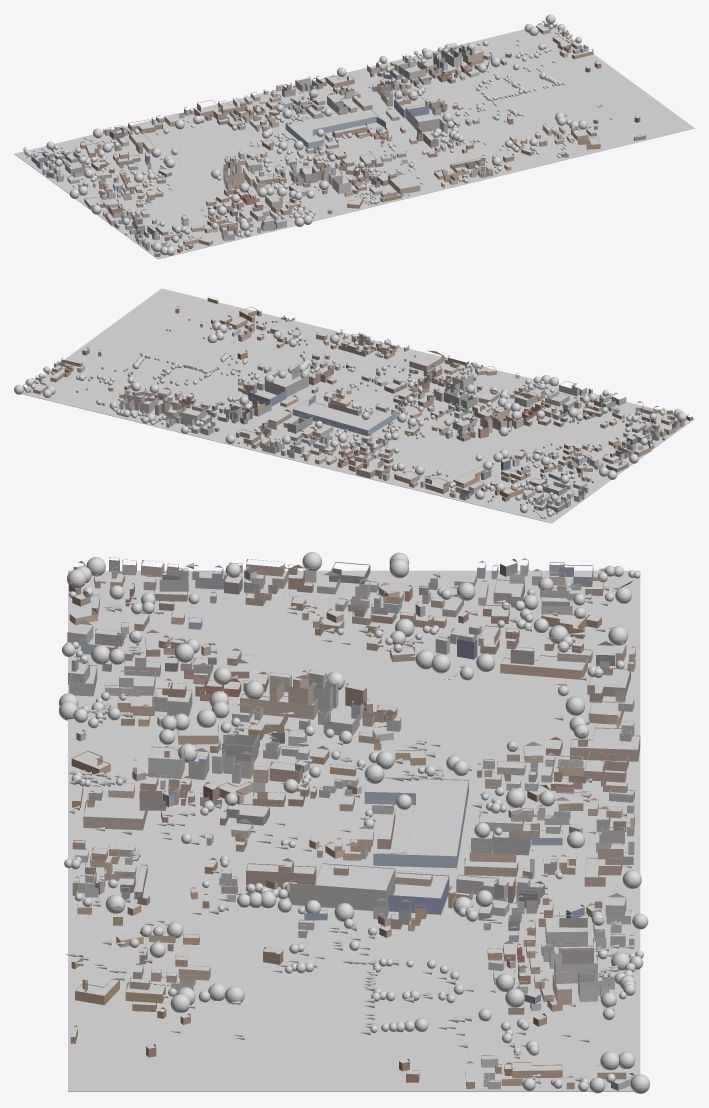
File: scene_0b5842f8-edaf-4bde-aa1f-222ab912820f.glb
3 views of the same model, one above another, from view 1: azimuth 30°, elevation 25°; view 2: azimuth 150°, elevation 25°; view 3: azimuth 270°, elevation 25° (orthographic). The views are drawn at different scales.
Parts seen in each view (by area): view 1: Ground_Base, BLD-001, BLD-002; view 2: Ground_Base, BLD-001, BLD-002; view 3: Ground_Base, BLD-002, BLD-001, BLD-027, BLD-003, BLD-006, BLD-007, BLD-008, BLD-004.
Boxes of the visible parts, x1,y1,x2,y2 form: Ground_Base: (14, 24, 694, 259); BLD-001: (285, 106, 385, 148); BLD-002: (405, 103, 447, 133); Ground_Base: (22, 288, 694, 523); BLD-001: (292, 394, 396, 436); BLD-002: (265, 364, 308, 396); Ground_Base: (68, 570, 640, 1091); BLD-002: (289, 863, 395, 910); BLD-001: (364, 777, 468, 868); BLD-027: (240, 694, 317, 719); BLD-003: (388, 872, 449, 914); BLD-006: (570, 727, 640, 761); BLD-007: (500, 655, 587, 679); BLD-008: (246, 860, 316, 887); BLD-004: (83, 799, 147, 830).
Bounding box in the file's own units: 747 × 20.35 × 353.
